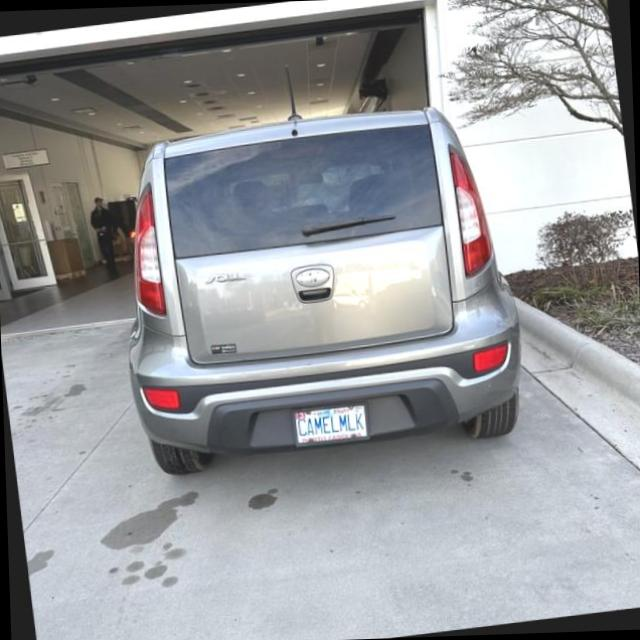LicensePlate: (288, 400, 372, 448)
